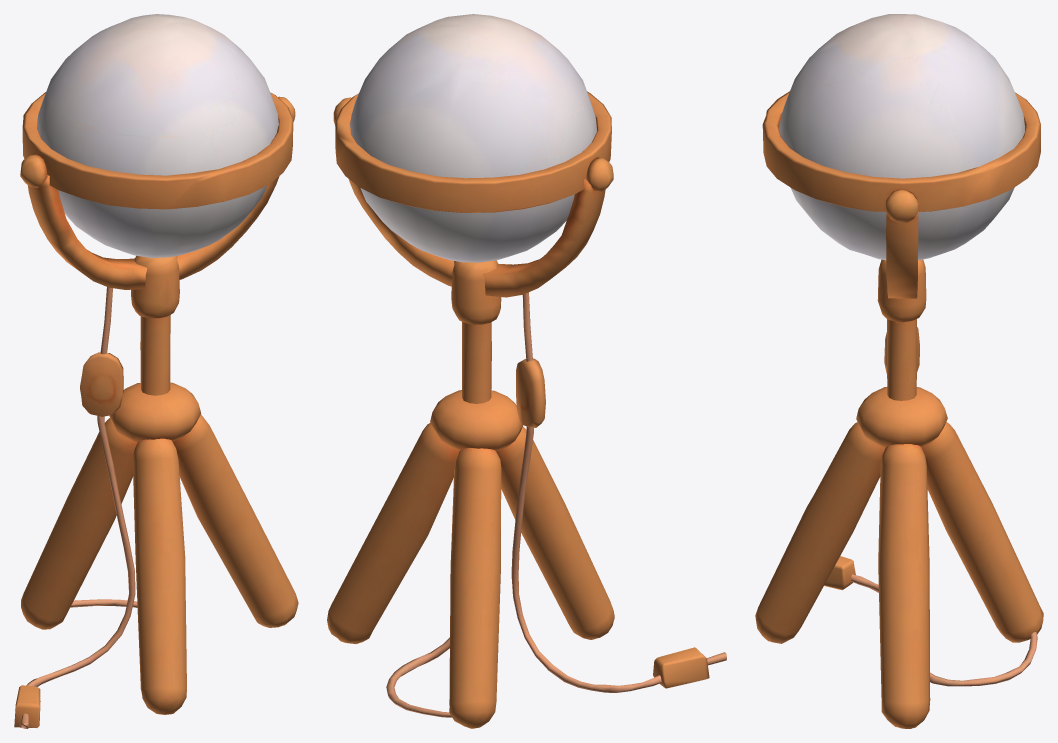
Rendered from bubble-lamp.glb.
The picture shows the model from 3 angles, left to right: view 1: azimuth 30°, elevation 25°; view 2: azimuth 150°, elevation 25°; view 3: azimuth 270°, elevation 25°; orthographic projection. The views are drawn at different scales.
Parts seen in each view (by area): view 1: geometry_0; view 2: geometry_0; view 3: geometry_0.
Part boxes in pixels (<box>): geometry_0: <box>14,14,298,728</box>; geometry_0: <box>327,14,726,728</box>; geometry_0: <box>755,14,1043,728</box>.
Size of the model in its own units: 0.5542 by 1 by 0.408.
Materials: 1 (1 with a texture image).
